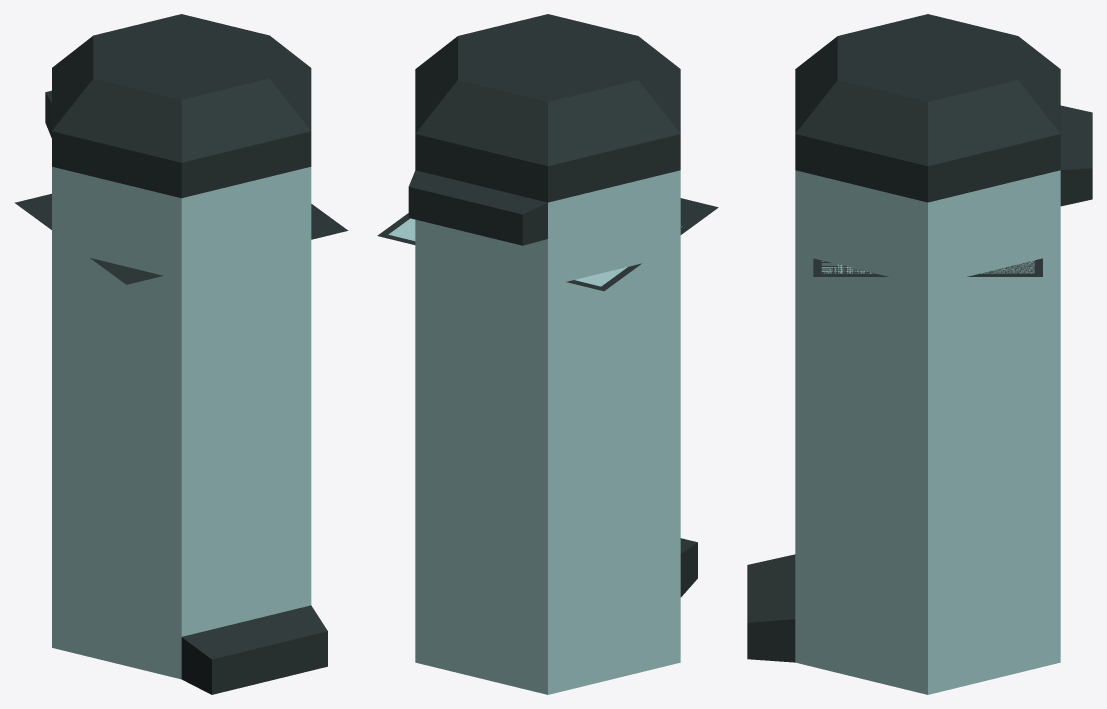
The model's file is f_trashcan.glb.
The picture shows the model from 3 angles, left to right: view 1: azimuth 30°, elevation 25°; view 2: azimuth 150°, elevation 25°; view 3: azimuth 270°, elevation 25°; orthographic projection. The views are drawn at different scales.
Visible parts, largest first — view 1: body, leaf_lid, inside; view 2: body, leaf_lid, inside, surface_1; view 3: body, leaf_lid, inside, surface_1.
Boxes of the visible parts, <box> form: body: <box>45,90,327,694</box>; leaf_lid: <box>52,14,311,198</box>; inside: <box>14,193,348,284</box>; body: <box>408,170,697,694</box>; leaf_lid: <box>415,14,680,202</box>; inside: <box>377,198,718,291</box>; surface_1: <box>388,218,682,286</box>; body: <box>747,105,1092,694</box>; leaf_lid: <box>795,14,1060,202</box>; inside: <box>813,258,1042,276</box>; surface_1: <box>821,260,1034,273</box>.
Size of the model in its own units: 0.3738 by 0.7702 by 0.4214.
